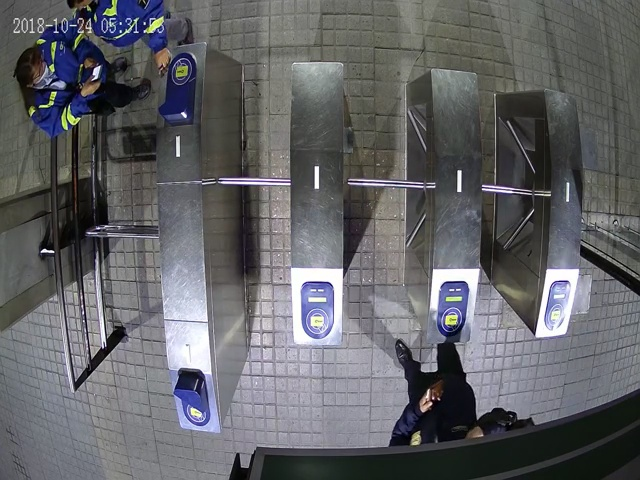Chaleco_azul: (13, 22, 152, 137), (66, 1, 191, 74)
